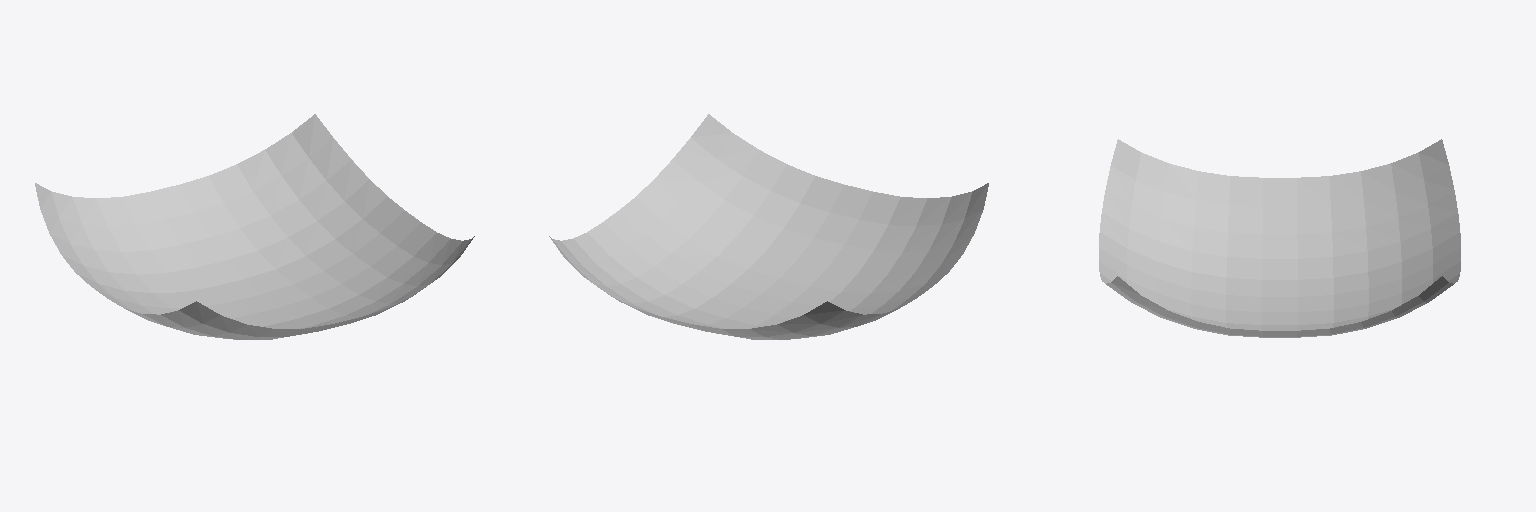
The model's file is UIscreen.obj.
The picture shows the model from 3 angles: view 1: azimuth 30°, elevation 25°; view 2: azimuth 150°, elevation 25°; view 3: azimuth 270°, elevation 25°; orthographic projection.
Visible parts, largest first — view 1: Plane; view 2: Plane; view 3: Plane.
Part boxes in pixels (bbox=[...]): Plane: bbox=[35, 114, 474, 339]; Plane: bbox=[549, 114, 988, 339]; Plane: bbox=[1099, 139, 1460, 337].
Size of the model in its own units: 2.29 by 0.6766 by 2.29.